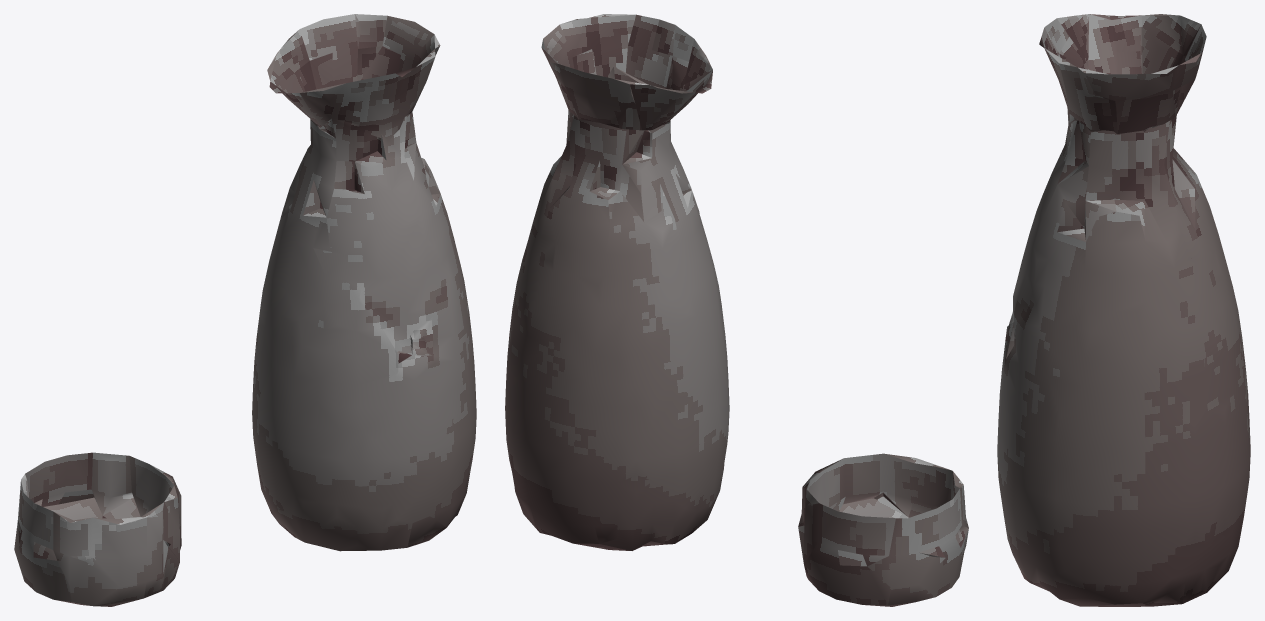
Rendered from tokkuri.glb.
3 renders of one model, left to right at view 1: azimuth 30°, elevation 25°; view 2: azimuth 150°, elevation 25°; view 3: azimuth 270°, elevation 25°, orthographic. The views are drawn at different scales.
Parts seen in each view (by area): view 1: mesh; view 2: mesh; view 3: mesh.
Part boxes in pixels (x1=…): mesh: x1=14, y1=14, x2=476, y2=606; mesh: x1=505, y1=14, x2=968, y2=606; mesh: x1=997, y1=14, x2=1250, y2=606.
Size of the model in its own units: 0.144 by 0.15 by 0.0645.
Materials: 1 (1 with a texture image).
